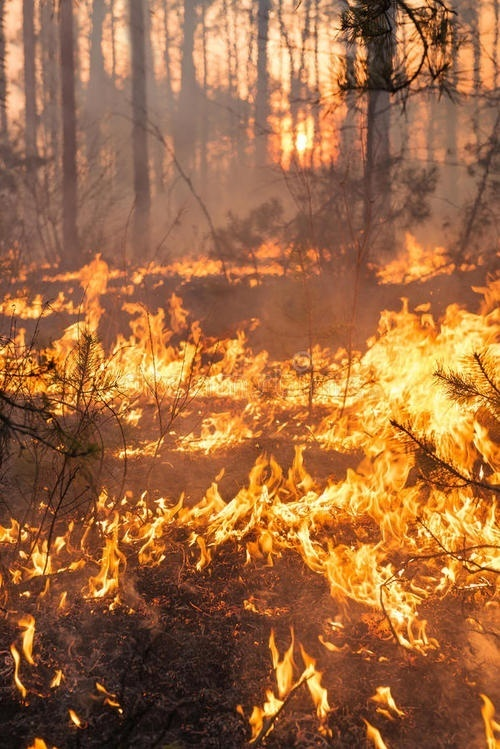fire: (9, 210, 500, 719)
